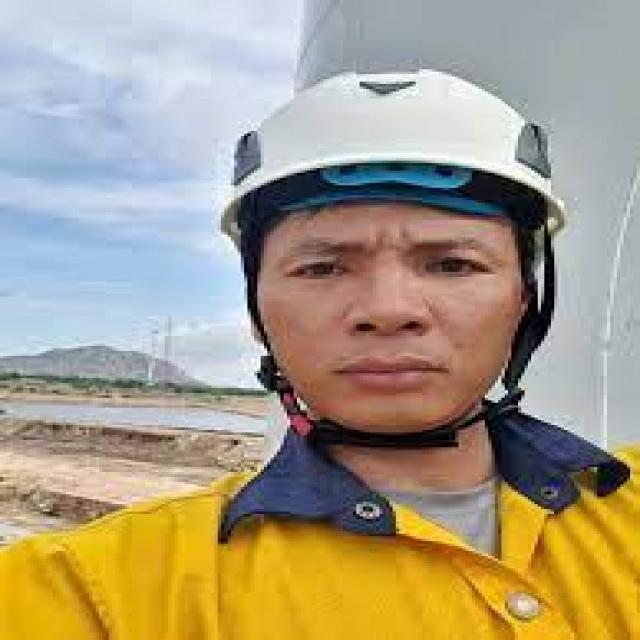reflective_jacket: (0, 476, 639, 632)
safety_helmet: (194, 64, 600, 229)
